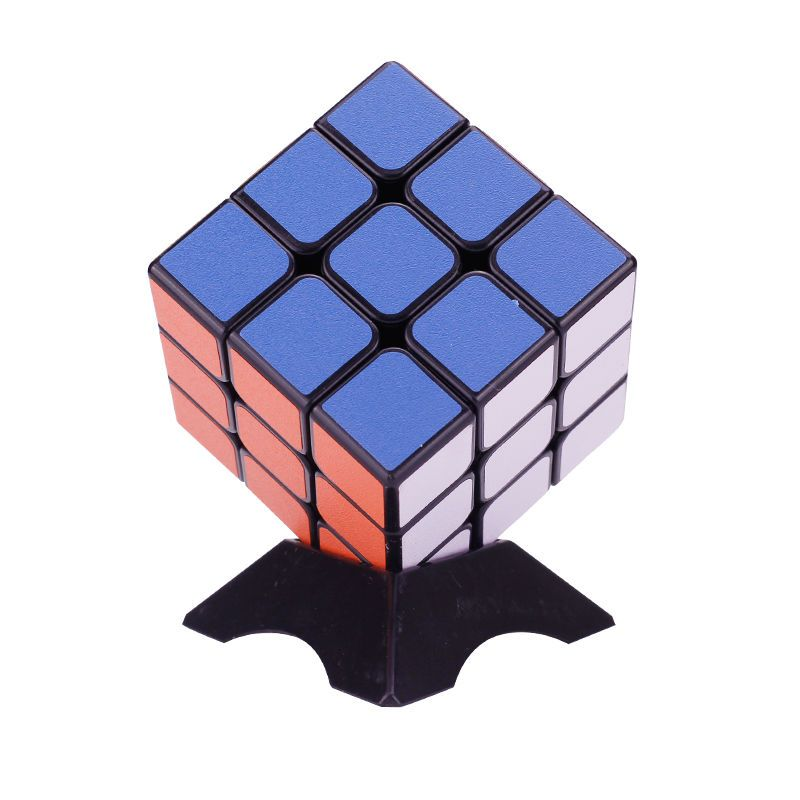cube: (145, 56, 642, 576)
